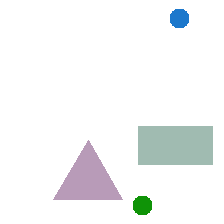circle: (170, 9, 188, 27), (133, 196, 151, 214)
rectangle: (138, 126, 212, 164)
triangle: (53, 140, 122, 199)
